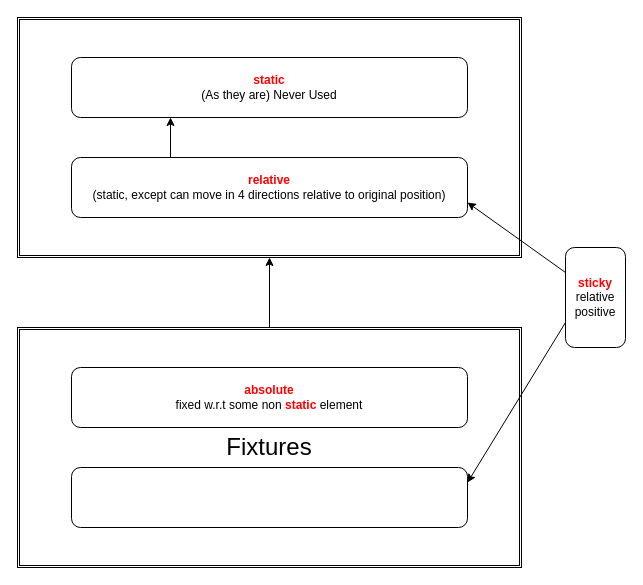
This 643x585 diagram has some shape labels left out. Each missing label, with the box of its shape:
fixed fixed w.r.t the current view , no change even when scrolled: (70, 466, 468, 528)
Usual: (16, 16, 522, 258)
